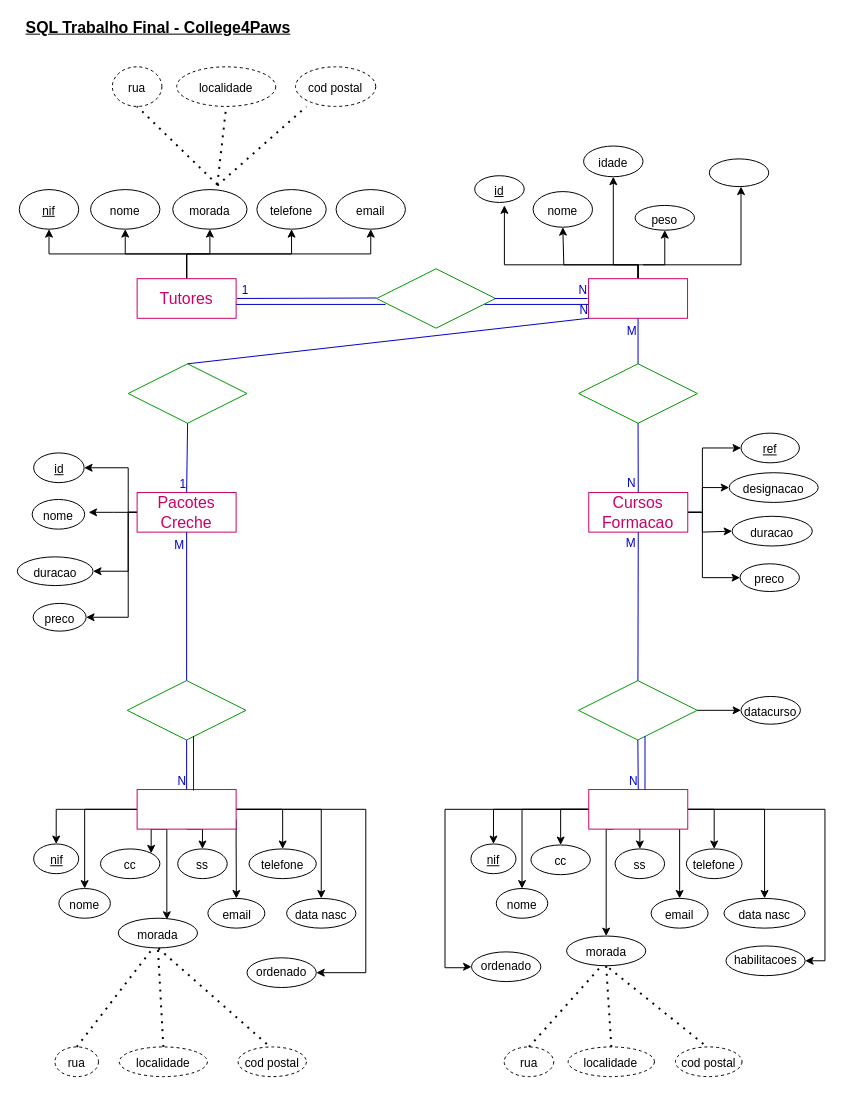
The diagram is 850 pixels wide and 1094 high, and some of its shapes have lost their labels. Each missing label, with the box of its shape:
Aprender: (578, 363, 697, 423)
Caes: (588, 278, 688, 318)
Formadores: (588, 789, 688, 829)
Frequentar: (127, 363, 247, 423)
Ministrar: (577, 680, 697, 740)
Monitores: (136, 789, 236, 829)
Possuir: (376, 268, 495, 328)
raca: (708, 158, 769, 187)
Supervisionar: (126, 680, 246, 740)
